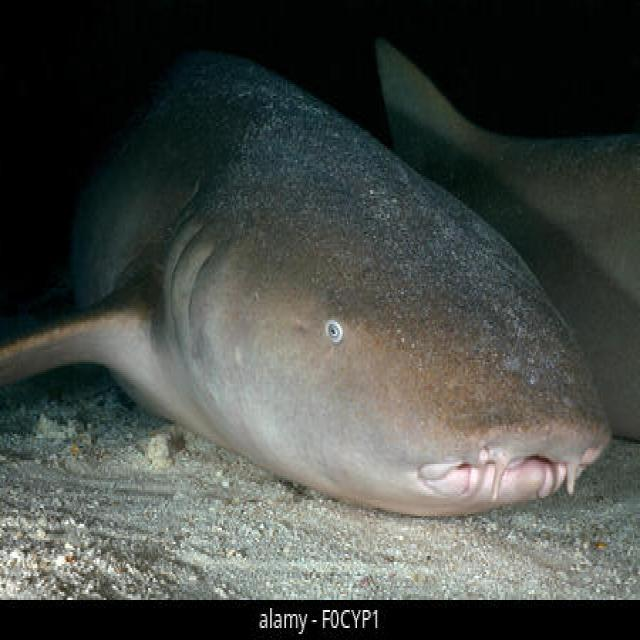Shark: (0, 2, 616, 530)
